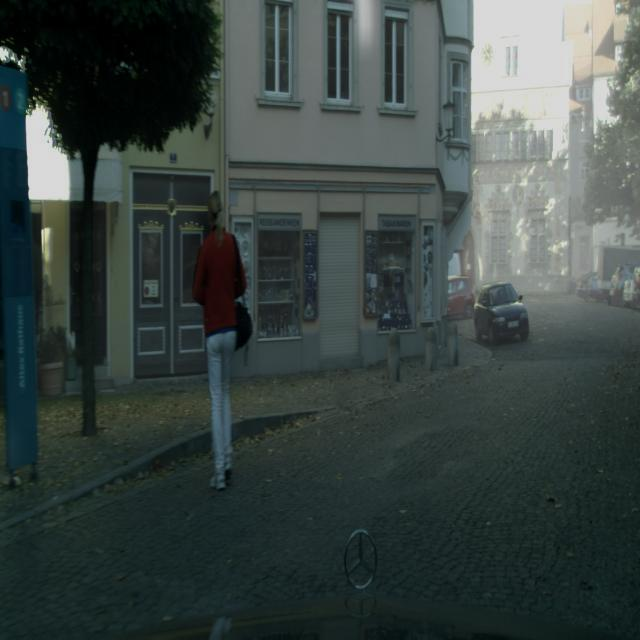bus: (474, 283, 530, 351), (445, 274, 471, 322)
person: (193, 189, 249, 492)
